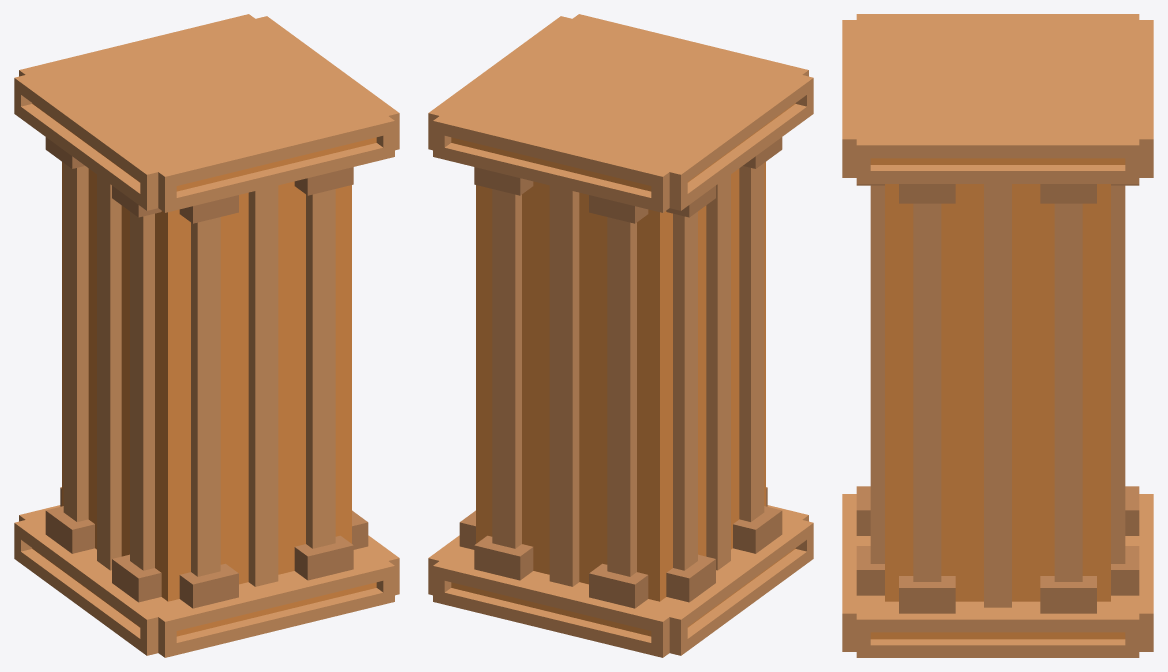
File: pillar_core.glb
3 renders of one model, left to right at view 1: azimuth 30°, elevation 25°; view 2: azimuth 150°, elevation 25°; view 3: azimuth 270°, elevation 25°, orthographic. The views are drawn at different scales.
Visible parts, largest first — view 1: Node; view 2: Node; view 3: Node.
Part boxes in pixels (left/top/right/bottom): Node: left=14, top=14, right=399, bottom=657; Node: left=428, top=14, right=813, bottom=657; Node: left=842, top=14, right=1153, bottom=657.
Bounding box in the file's own units: 2.2 × 4 × 2.2.
1 material, 1 textured.
